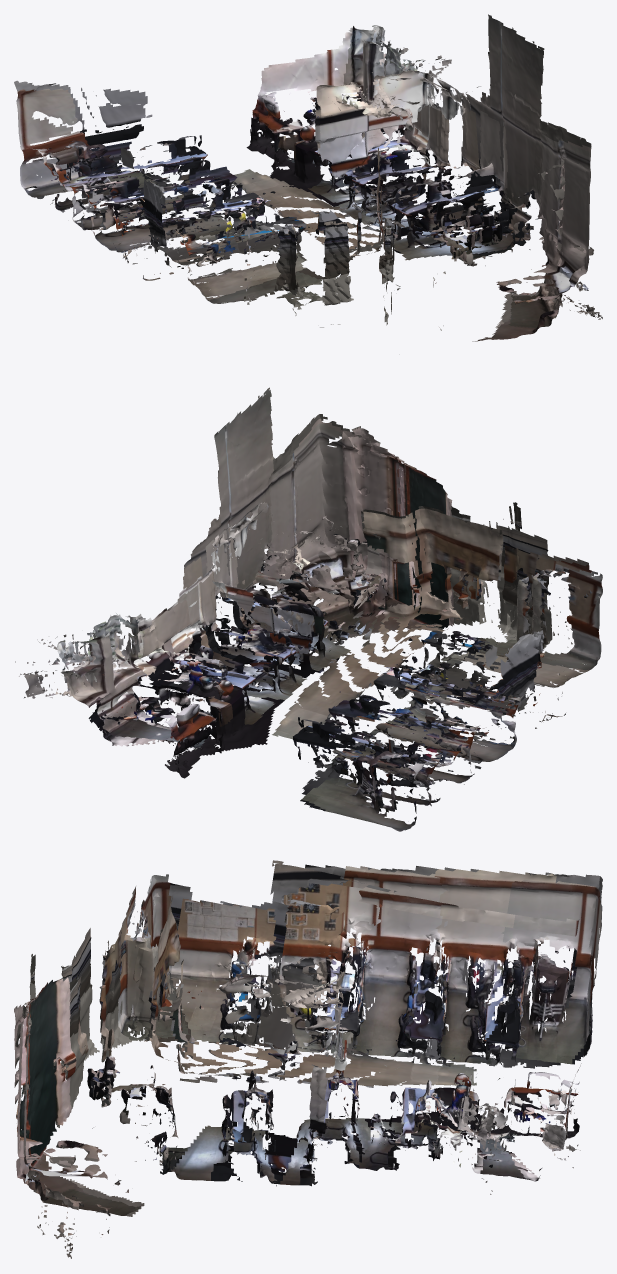
File: model_tsdf_textured.glb
3 renders of one model, top to bottom at view 1: azimuth 30°, elevation 25°; view 2: azimuth 150°, elevation 25°; view 3: azimuth 270°, elevation 25°, orthographic. The views are drawn at different scales.
Parts seen in each view (by area): view 1: model_tsdf_textured_canonical.obj; view 2: model_tsdf_textured_canonical.obj; view 3: model_tsdf_textured_canonical.obj.
Boxes of the visible parts, <box> form: model_tsdf_textured_canonical.obj: <box>14,14,602,341</box>; model_tsdf_textured_canonical.obj: <box>15,387,602,831</box>; model_tsdf_textured_canonical.obj: <box>14,860,602,1258</box>.
Bounding box in the file's own units: 3.05 × 1.71 × 3.08.
1 material, 1 textured.
